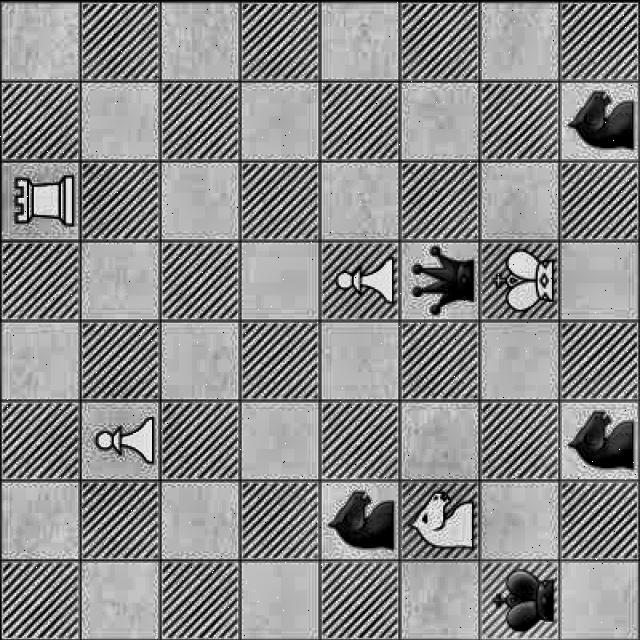Black Knight: (563, 398, 639, 476), (322, 481, 398, 556), (563, 89, 639, 154)
black king: (487, 560, 565, 639)
black queen: (402, 243, 478, 321)
white king: (488, 240, 554, 322)
white pawn: (84, 406, 158, 471), (328, 247, 396, 310)
white rook: (8, 166, 78, 232)
whiteknight: (408, 484, 476, 554)
